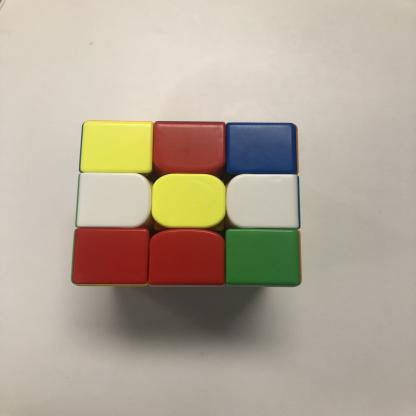UnsolvedCube: (68, 113, 313, 294)
